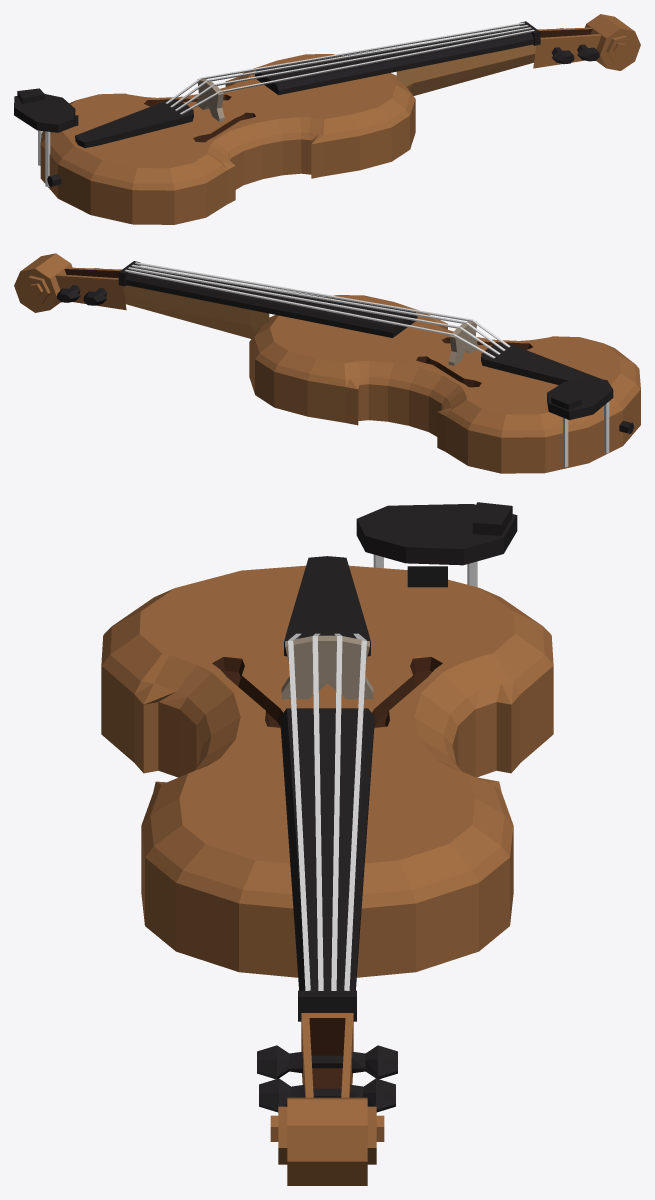
Rendered from violin-515f9c.glb.
The picture shows the model from 3 angles, top to bottom: view 1: azimuth 30°, elevation 25°; view 2: azimuth 150°, elevation 25°; view 3: azimuth 270°, elevation 25°; orthographic projection. The views are drawn at different scales.
Visible parts, largest first — view 1: violin-body, violin-metal; view 2: violin-body, violin-metal; view 3: violin-body, violin-metal.
Part boxes in pixels (x1,y1,x2,y2): violin-body: (14, 14, 640, 224); violin-metal: (38, 22, 534, 186); violin-body: (14, 253, 640, 473); violin-metal: (124, 262, 609, 467); violin-body: (101, 502, 553, 1185); violin-metal: (288, 554, 477, 990).
Bounding box in the file's own units: 0.601 × 0.078 × 0.2027.
